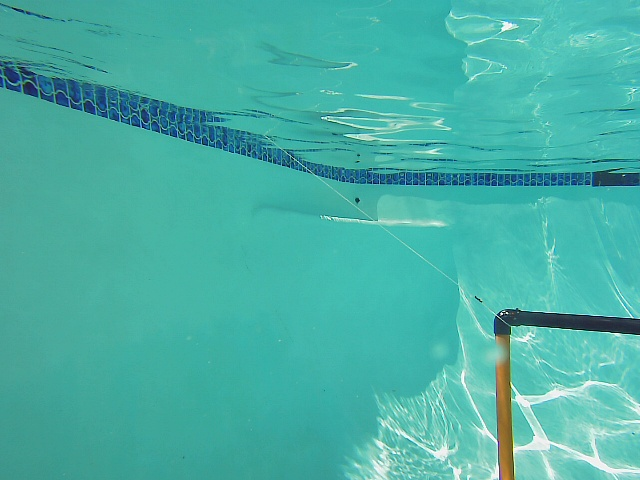Gate: (488, 305, 640, 470)
